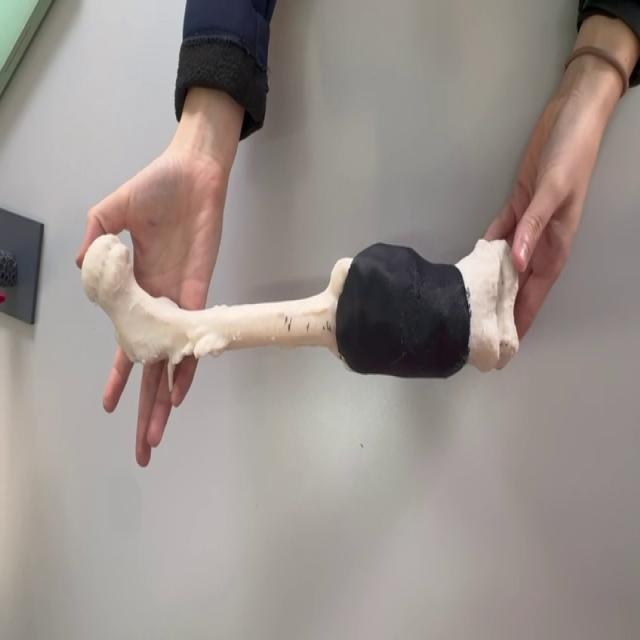bones: (81, 234, 518, 390)
